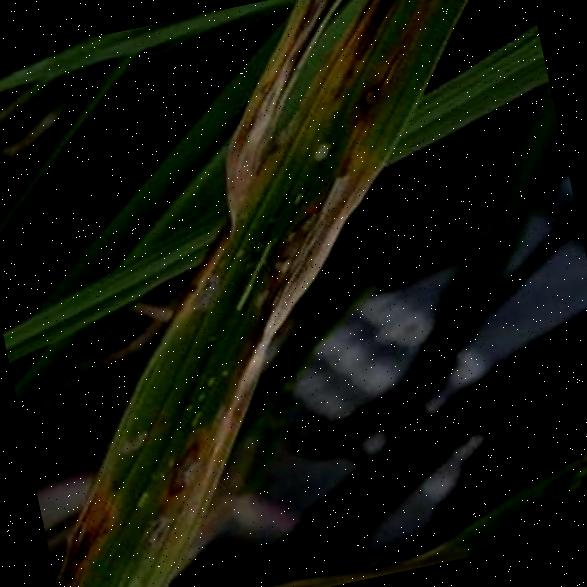Leaf_smut: (140, 431, 222, 500), (118, 501, 181, 549)
